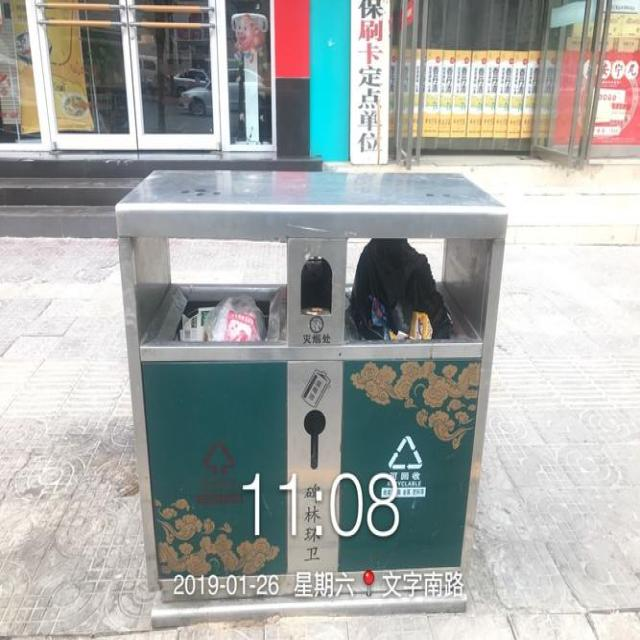overflow: (117, 170, 506, 627)
